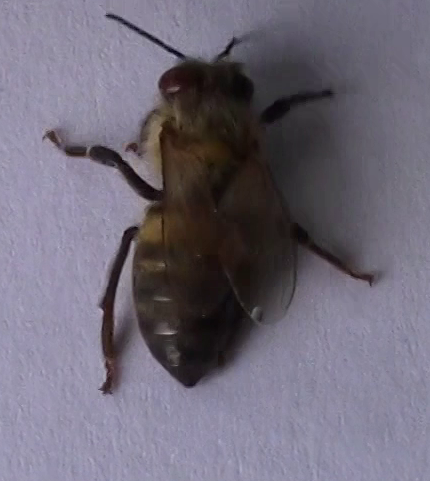Varroa destructor: (156, 63, 197, 95)
